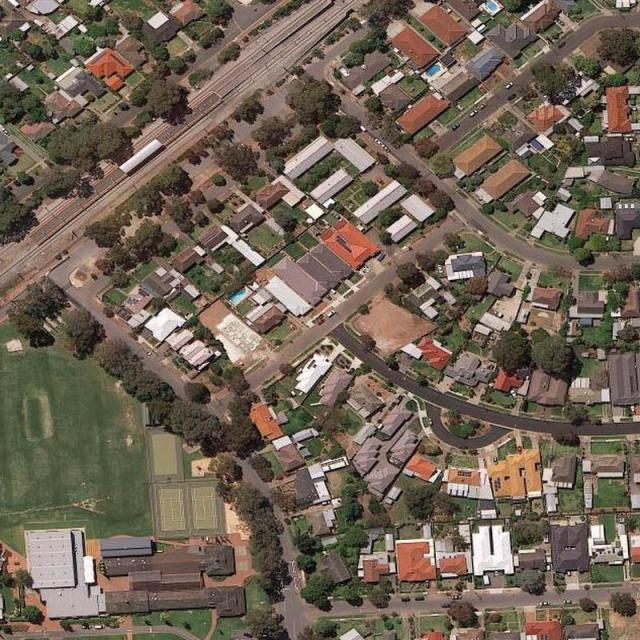vehicle: (381, 143, 390, 153), (2, 127, 11, 136), (510, 390, 518, 400), (506, 94, 517, 101), (469, 110, 478, 118), (317, 316, 325, 325), (109, 624, 121, 630), (414, 596, 425, 602), (374, 138, 382, 146), (479, 102, 487, 110), (557, 18, 565, 26), (326, 310, 334, 318), (502, 58, 511, 65), (82, 623, 91, 630), (480, 84, 486, 94), (378, 252, 384, 262), (506, 82, 514, 89), (452, 123, 460, 130), (401, 598, 411, 603), (437, 265, 443, 273), (322, 500, 331, 505), (94, 625, 105, 629), (451, 595, 462, 599), (540, 602, 550, 606), (563, 599, 571, 604), (440, 604, 450, 608), (630, 406, 635, 414), (517, 446, 522, 454), (429, 418, 433, 426), (546, 563, 550, 571)
